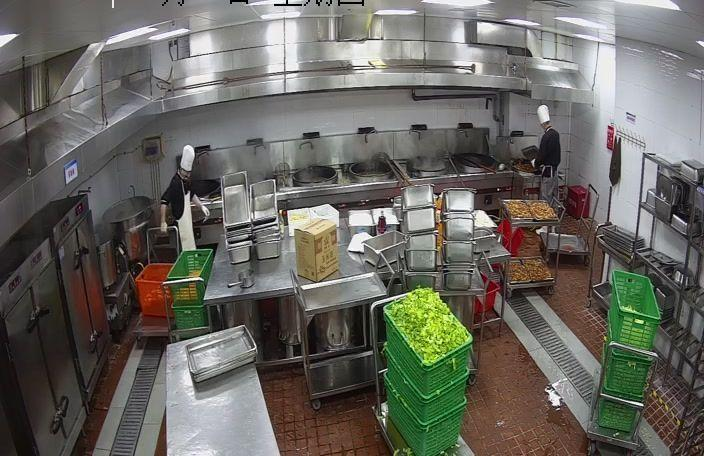mask: (181, 168, 192, 184)
